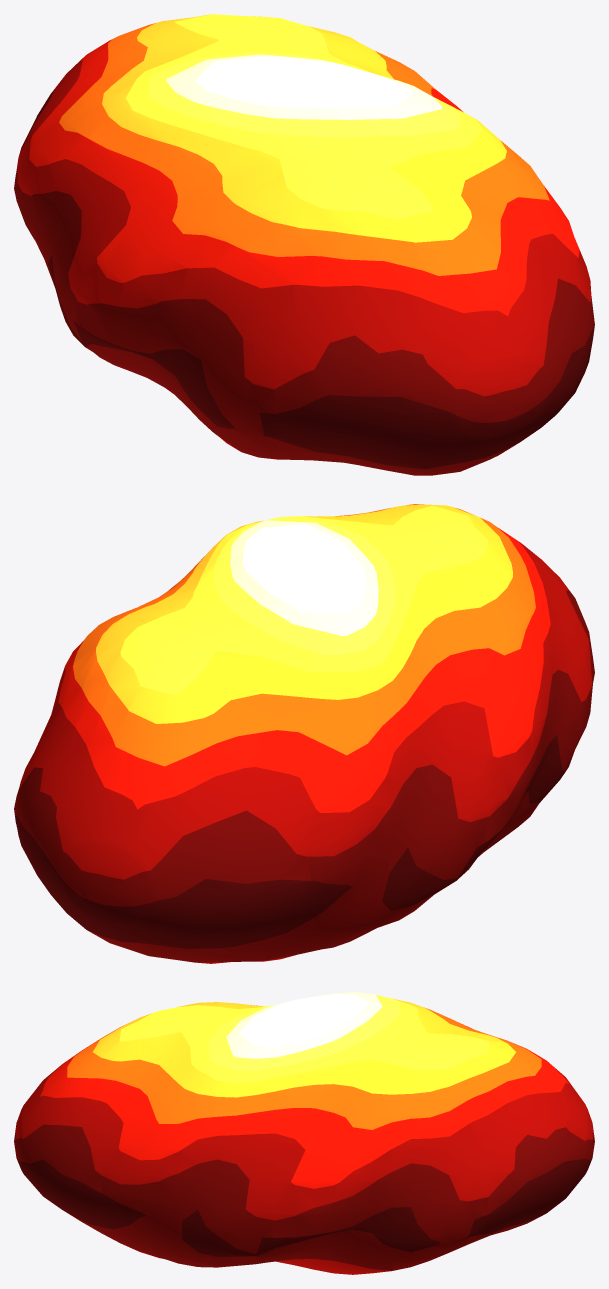
File: fire_spindle.glb
3 views of the same model, one above another, from view 1: azimuth 30°, elevation 25°; view 2: azimuth 150°, elevation 25°; view 3: azimuth 270°, elevation 25° (orthographic). The views are drawn at different scales.
Visible parts, largest first — view 1: fire_spindle; view 2: fire_spindle; view 3: fire_spindle.
Boxes of the visible parts, <box> form: fire_spindle: <box>14,14,594,475</box>; fire_spindle: <box>14,504,594,963</box>; fire_spindle: <box>14,992,594,1274</box>.
Bounding box in the file's own units: 8.48 × 6.7 × 14.2.
